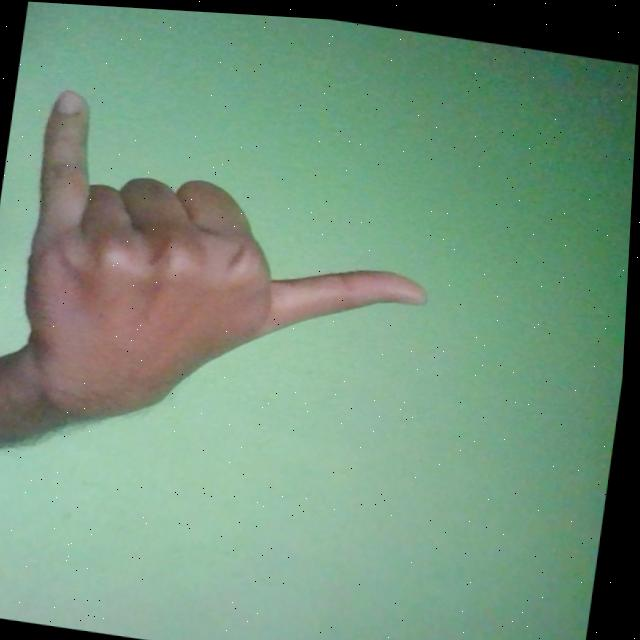Call Me: (7, 86, 455, 467)
